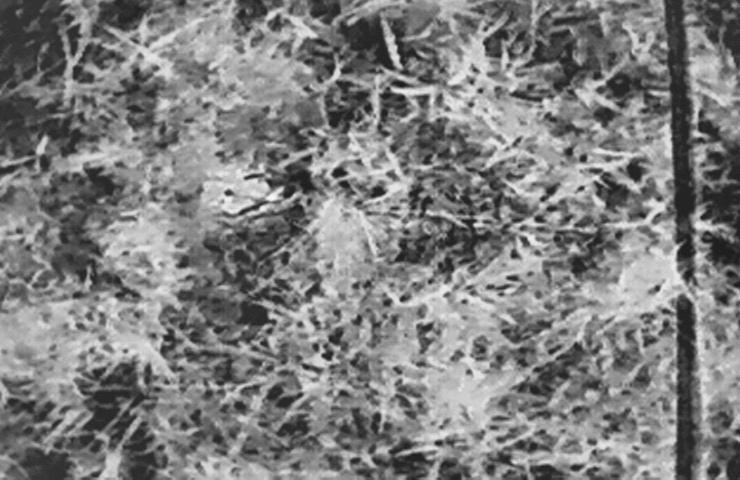landmines: (197, 157, 276, 219)
